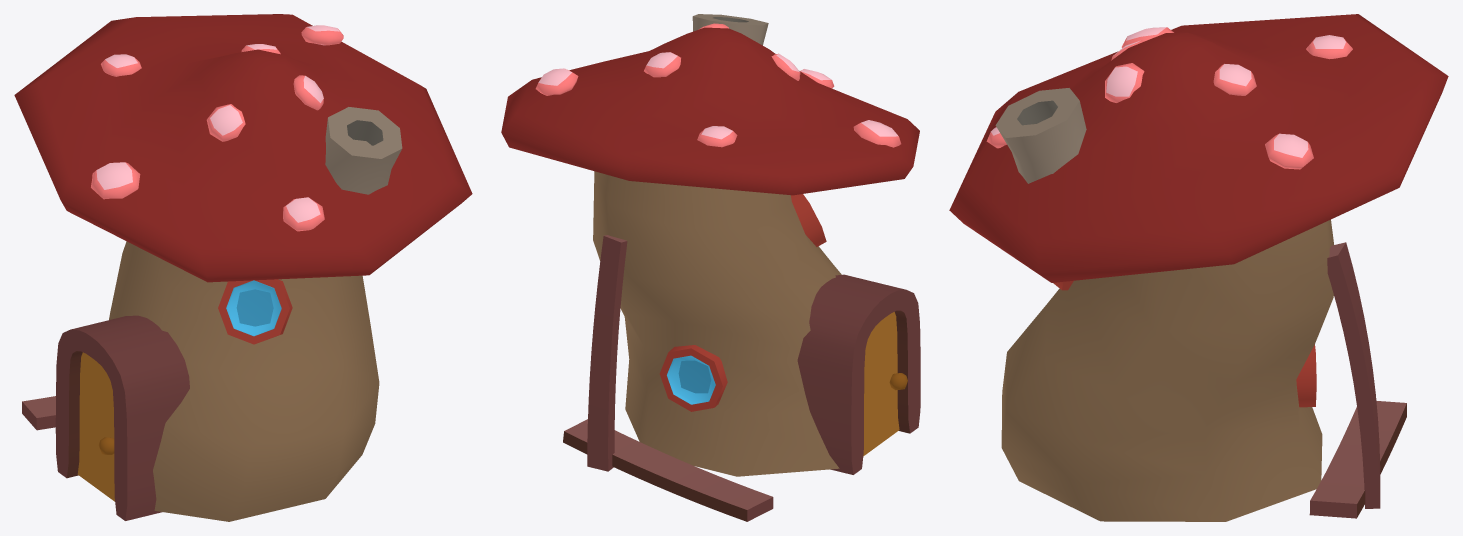
Rendered from House_Big.glb.
3 views of the same model, side by side, from view 1: azimuth 30°, elevation 25°; view 2: azimuth 150°, elevation 25°; view 3: azimuth 270°, elevation 25° (orthographic). The views are drawn at different scales.
Visible parts, largest first — view 1: Roof, Base, Plane.007, Furnace, Plane.008, Cube.003, Plane.006, Plane.003, Plane.002, Cube.002, Plane.005, Plane (+1 smaller); view 2: Base, Roof, Plane.007, Cube.001, Cube.002, Plane.008, Cube.004, Furnace, Cube.003, Plane.001, Plane.006, Plane.004 (+1 smaller); view 3: Roof, Base, Furnace, Cube.001, Cube.002, Plane.001, Plane.005, Plane.004, Cube.004, Plane.
Part boxes in pixels (x1,y1,x2,y2): Roof: (14,14,472,282); Base: (109,241,379,521); Plane.007: (55,315,189,520); Furnace: (325,107,402,194); Plane.008: (77,352,114,501); Cube.003: (218,279,292,344); Plane.006: (91,162,140,199); Plane.003: (283,197,324,231); Plane.002: (206,104,245,141); Cube.002: (22,396,55,430); Plane.005: (293,75,323,110); Plane: (101,54,141,76); Base: (593,171,841,476); Roof: (501,27,919,195); Plane.007: (797,274,920,474); Cube.001: (587,235,627,471); Cube.002: (563,419,773,521); Plane.008: (863,312,899,456); Cube.004: (659,345,727,411); Furnace: (692,14,768,45); Cube.003: (791,194,826,246); Plane.001: (535,68,578,95); Plane.006: (853,120,901,147); Plane.004: (644,52,680,77); Roof: (949,14,1448,282); Base: (1001,219,1333,521); Furnace: (995,88,1086,183); Cube.001: (1327,242,1380,508); Cube.002: (1309,400,1406,518); Plane.001: (1265,133,1313,169); Plane.005: (1105,63,1144,102); Plane.004: (1213,64,1256,95); Cube.004: (1296,344,1316,407); Plane: (1306,35,1352,59).
Bounding box in the file's own units: 3.65 × 3.55 × 3.55.
Materials: 1 (1 with a texture image).
